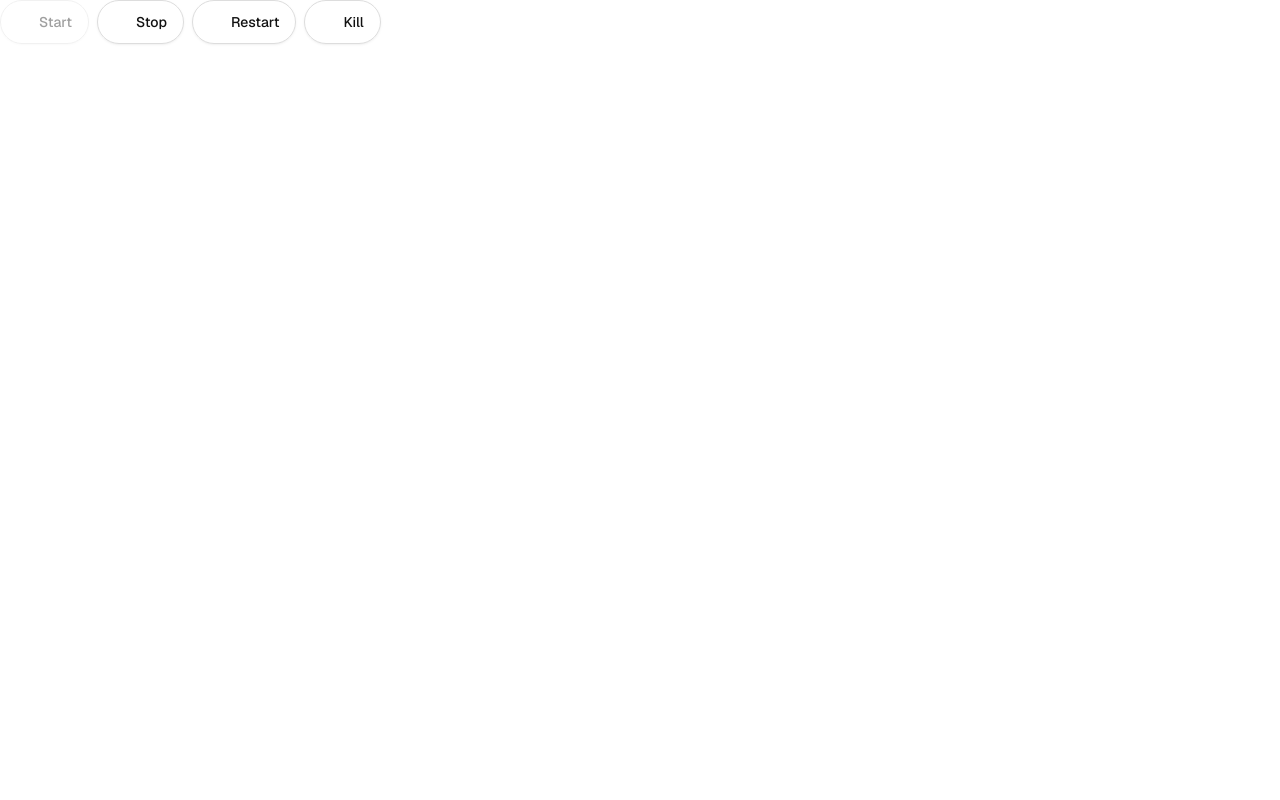
Scenario: PowerControls › confirms a kill by naming what it costs
Click the button "Kill" at (343, 22), box [304, 0, 381, 44]
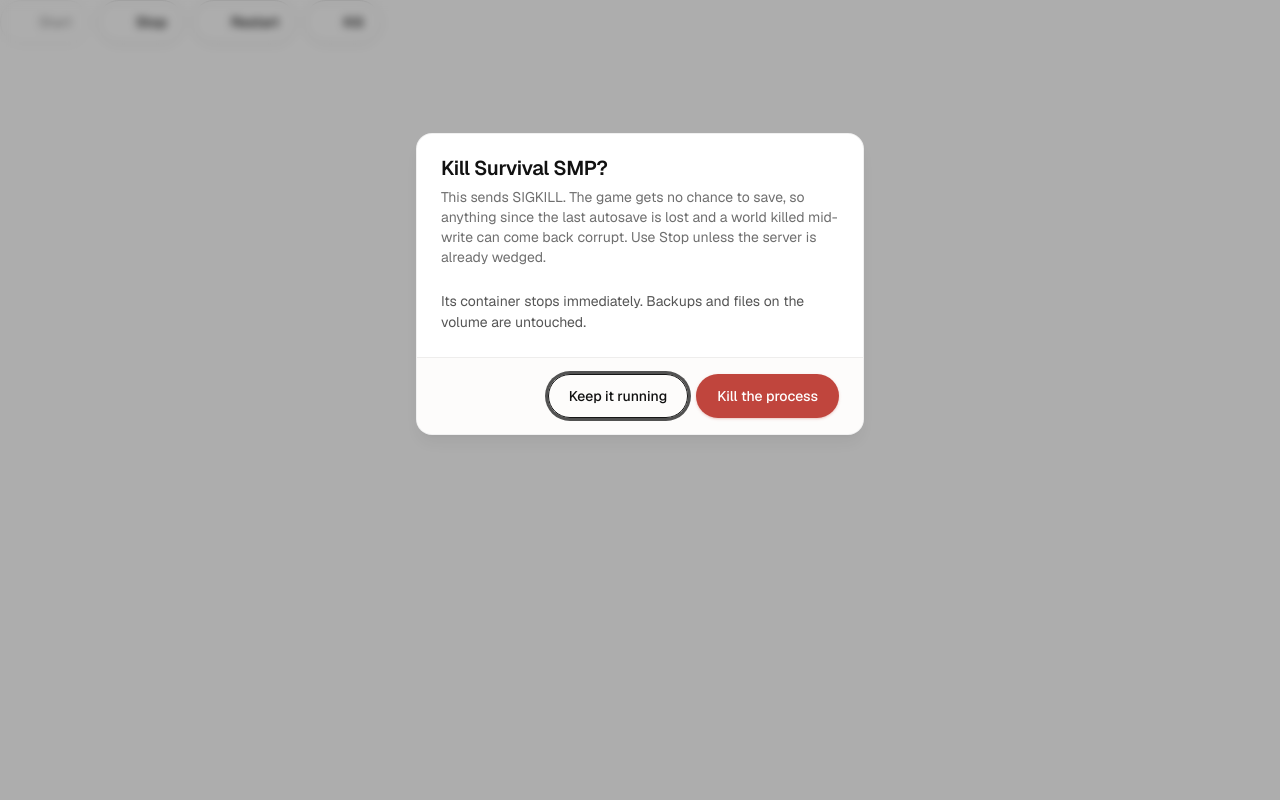
expect the text "corrupt" is shown: met, box [441, 188, 838, 266]
